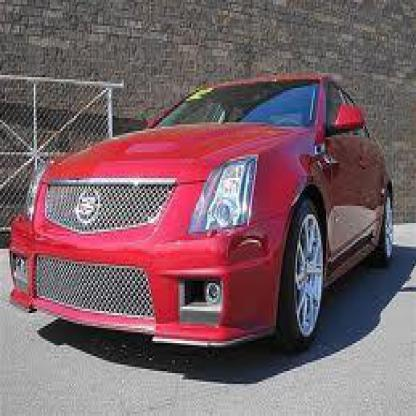Vehicle: (9, 66, 396, 376)
